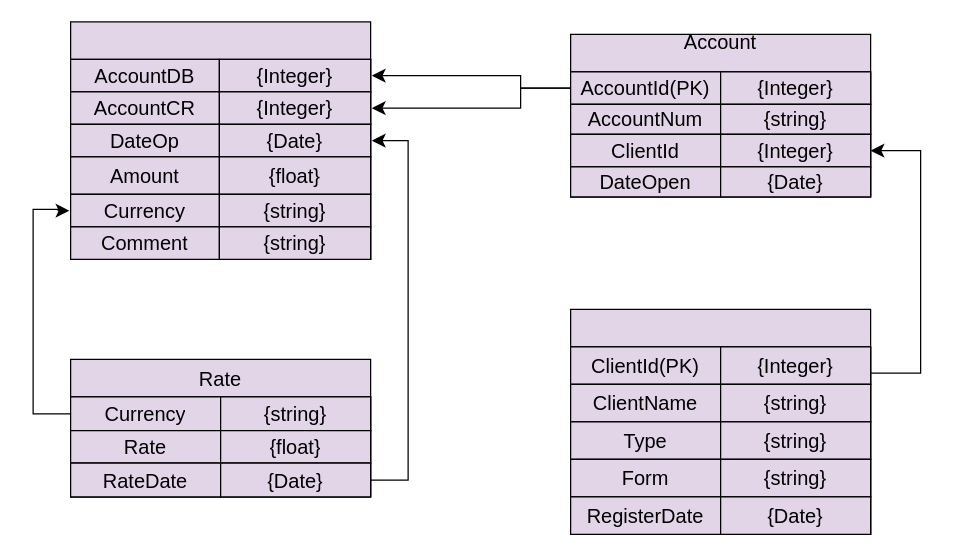
This 955x556 diagram has some shape labels left out. The box of each missing label's shape, as (x1, y1, x2, y2) in pixels:
Clients: (569, 308, 871, 534)
Operation: (69, 21, 371, 259)
